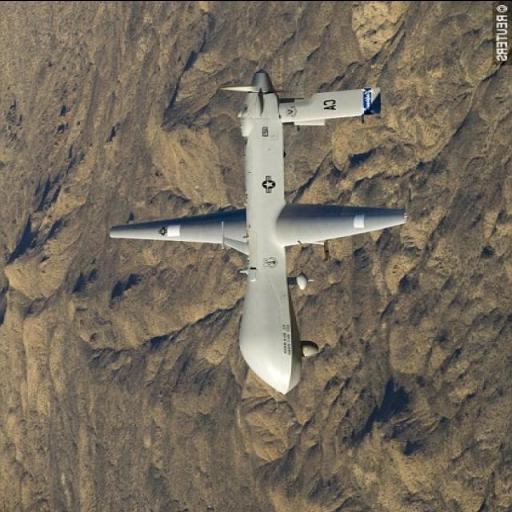uav: (100, 64, 416, 396)
